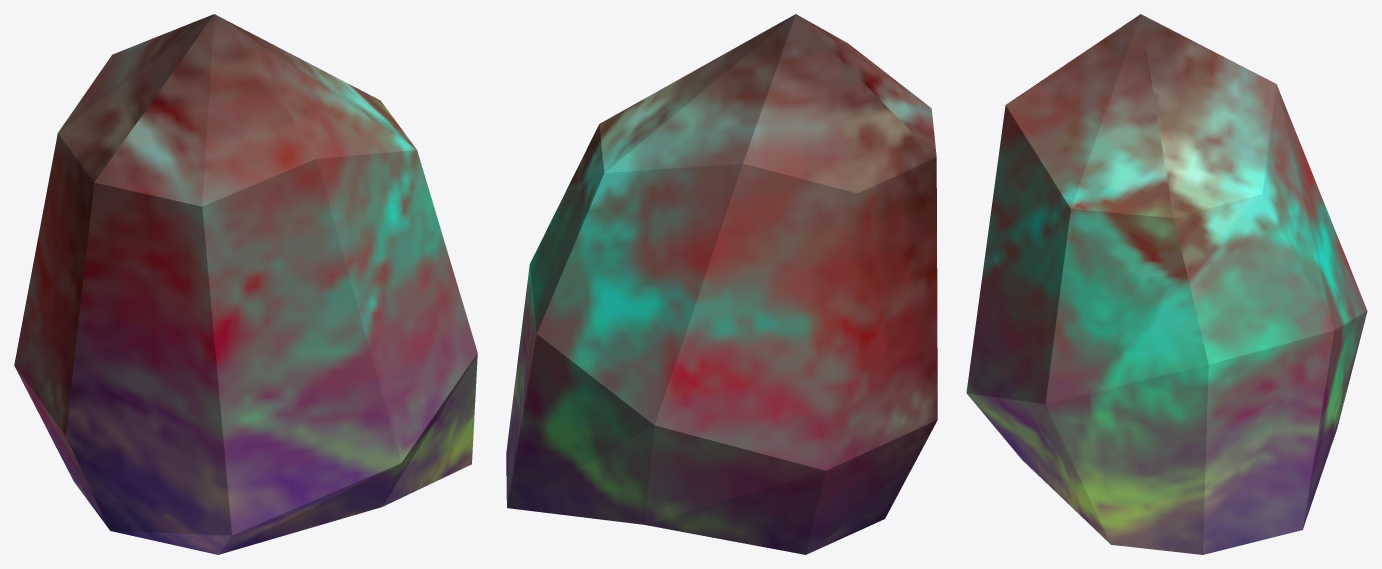
The picture shows the model from 3 angles, left to right: view 1: azimuth 30°, elevation 25°; view 2: azimuth 150°, elevation 25°; view 3: azimuth 270°, elevation 25°; orthographic projection. The views are drawn at different scales.
Parts seen in each view (by area): view 1: m_nb_0001_none; view 2: m_nb_0001_none; view 3: m_nb_0001_none.
Part boxes in pixels (x1,y1,x2,y2): m_nb_0001_none: (14, 14, 477, 554); m_nb_0001_none: (506, 14, 937, 554); m_nb_0001_none: (966, 14, 1367, 554).
Bounding box in the file's own units: 29.8 × 34.25 × 28.95.
1 material, 1 textured.
